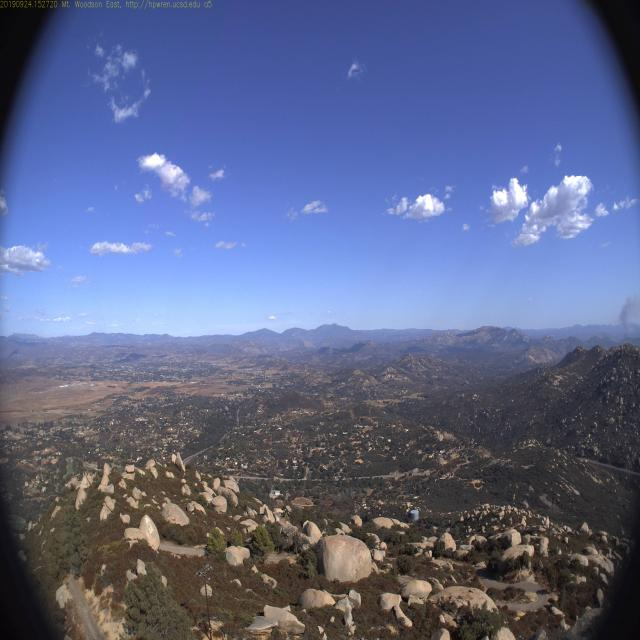smoke: (616, 291, 640, 334)
